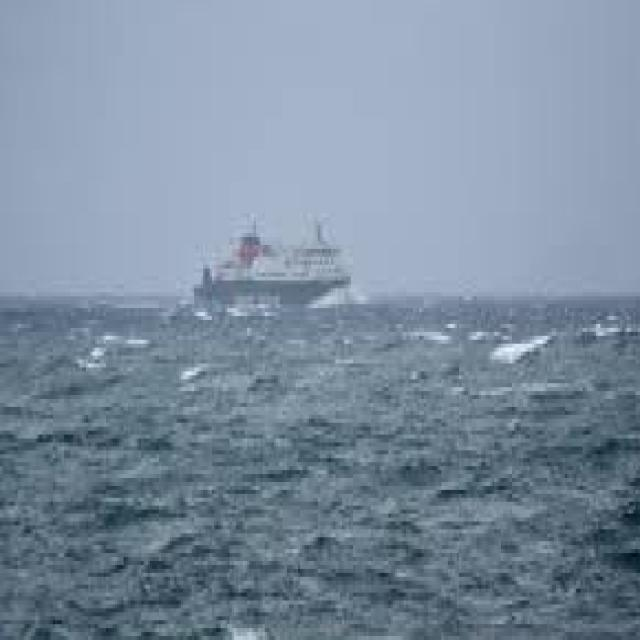cargoship: (182, 228, 384, 349)
